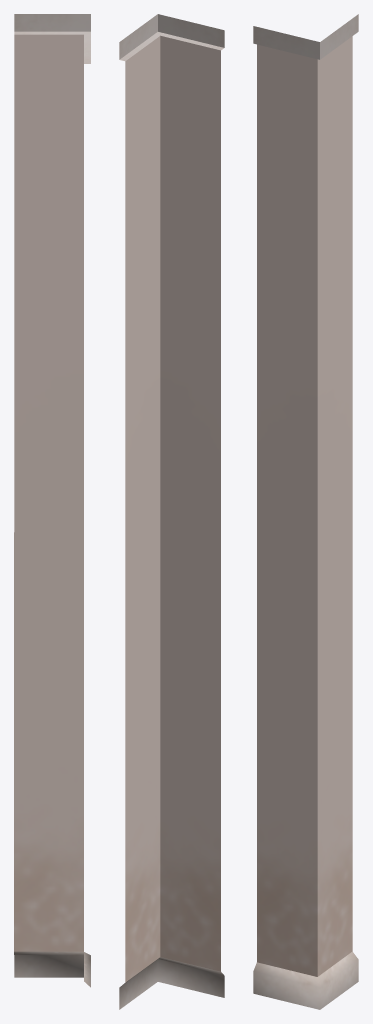
File: MT_Room_OpenCorner_Small.fbx
3 views of the same model, side by side, from view 1: azimuth 90°, elevation 25°; view 2: azimuth 150°, elevation 25°; view 3: azimuth 330°, elevation 25° (orthographic).
Visible parts, largest first — view 1: OpenCorner_Small.001; view 2: OpenCorner_Small.001; view 3: OpenCorner_Small.001.
Part boxes in pixels (left/top/right/bottom): OpenCorner_Small.001: left=14, top=14, right=90, bottom=987; OpenCorner_Small.001: left=119, top=14, right=224, bottom=1009; OpenCorner_Small.001: left=253, top=14, right=358, bottom=1009.
Bounding box in the file's own units: 22.01 × 305 × 22.01.
